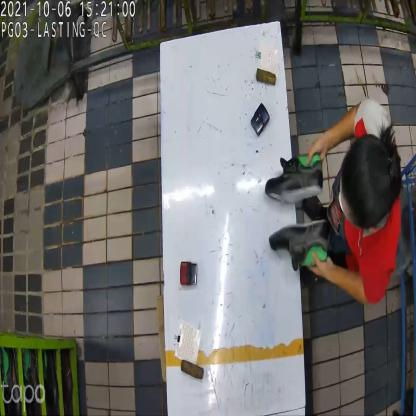shoes: (263, 156, 332, 270)
stamp: (252, 103, 271, 138), (179, 258, 197, 288)
